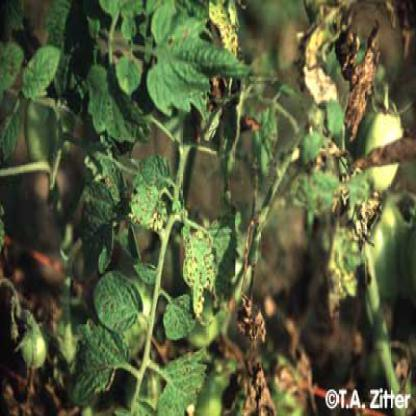tomato septoria leaf spot: (124, 145, 182, 238), (74, 154, 136, 234), (180, 224, 220, 321), (90, 271, 149, 335), (155, 351, 209, 414), (159, 293, 203, 346)
